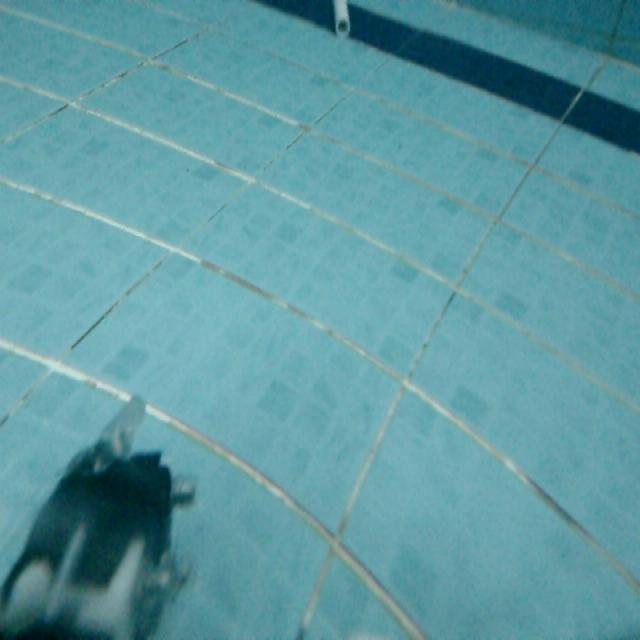Cube: (326, 0, 354, 42)
